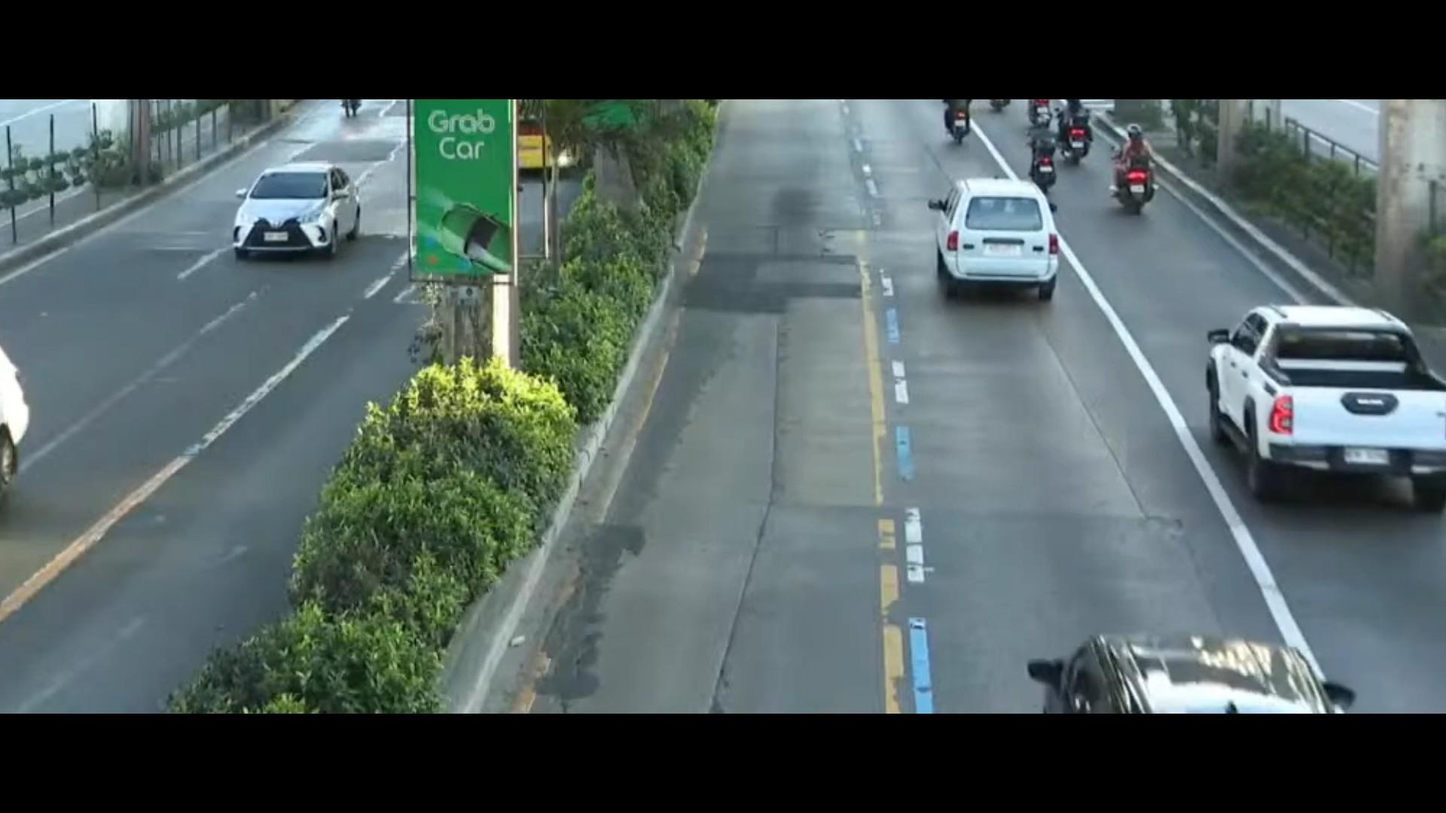Motorcycle: (1101, 121, 1170, 224), (1025, 106, 1071, 189), (1057, 96, 1104, 164), (938, 96, 976, 132)
Pickup: (1160, 269, 1446, 513)
Sedan: (205, 149, 375, 284), (934, 168, 1072, 307)
